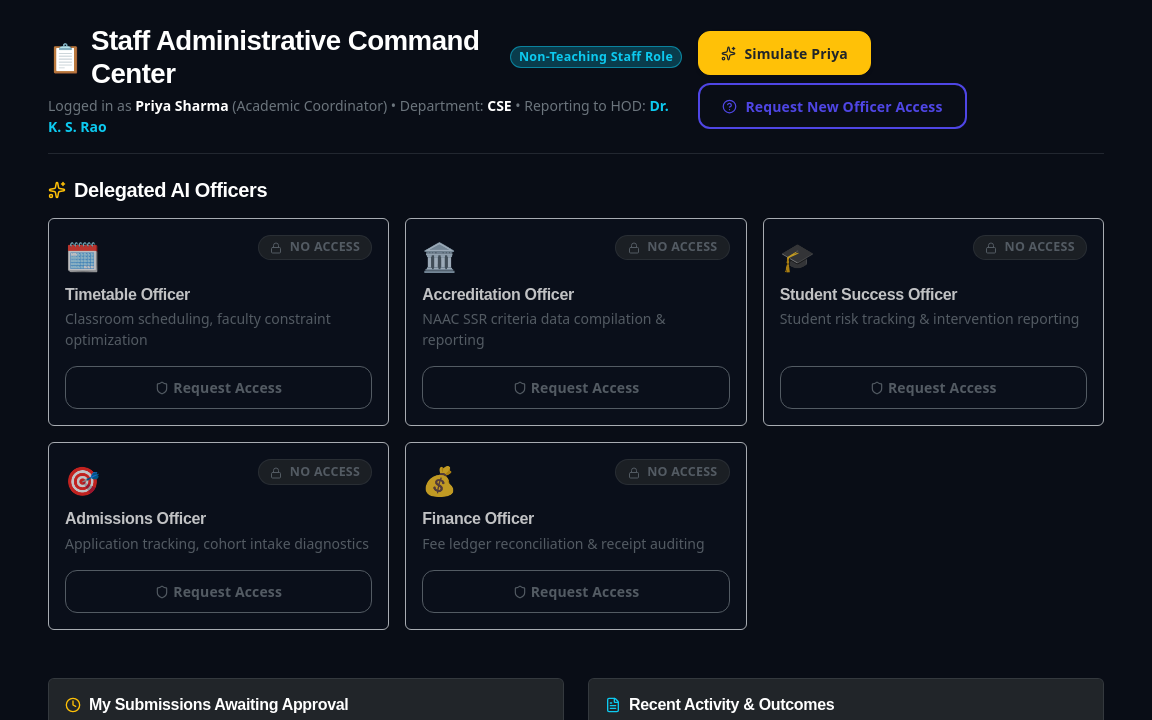
Test: StaffDashboardPage Component › Opens request access modal when clicked
Click the button "Request Access" below "Timetable Officer" at (219, 388), box [65,366,372,410]
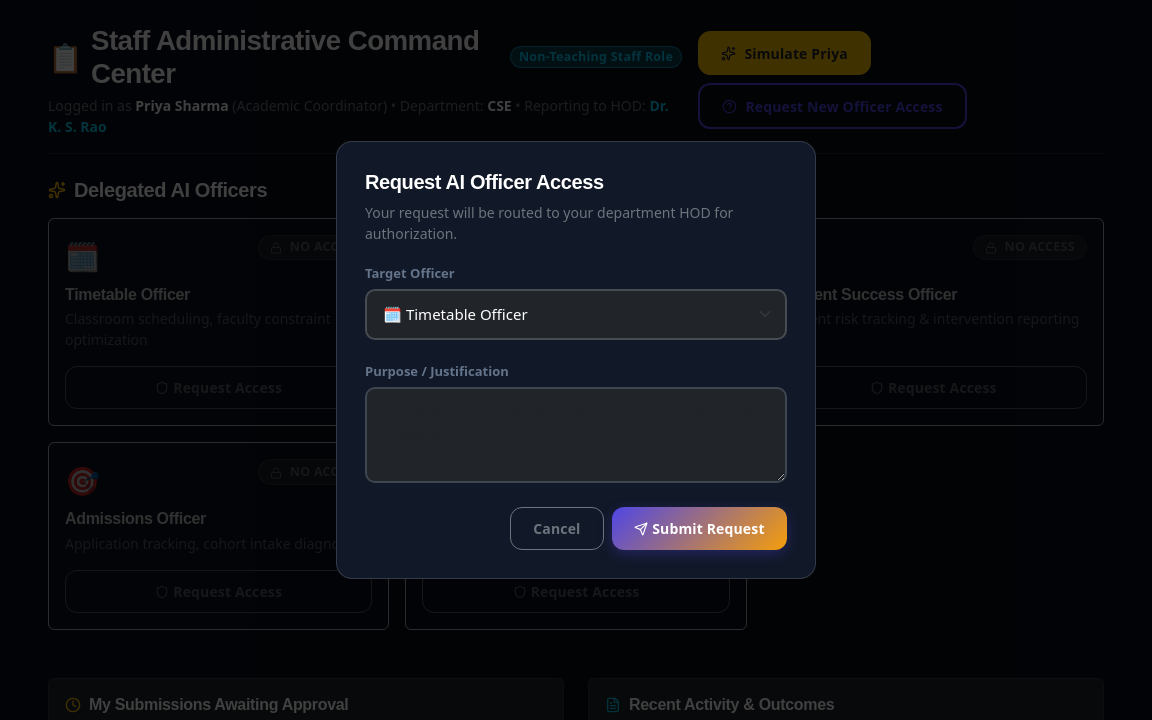
Expected: the heading "Request AI Officer Access" is shown, [365,171,604,193]
